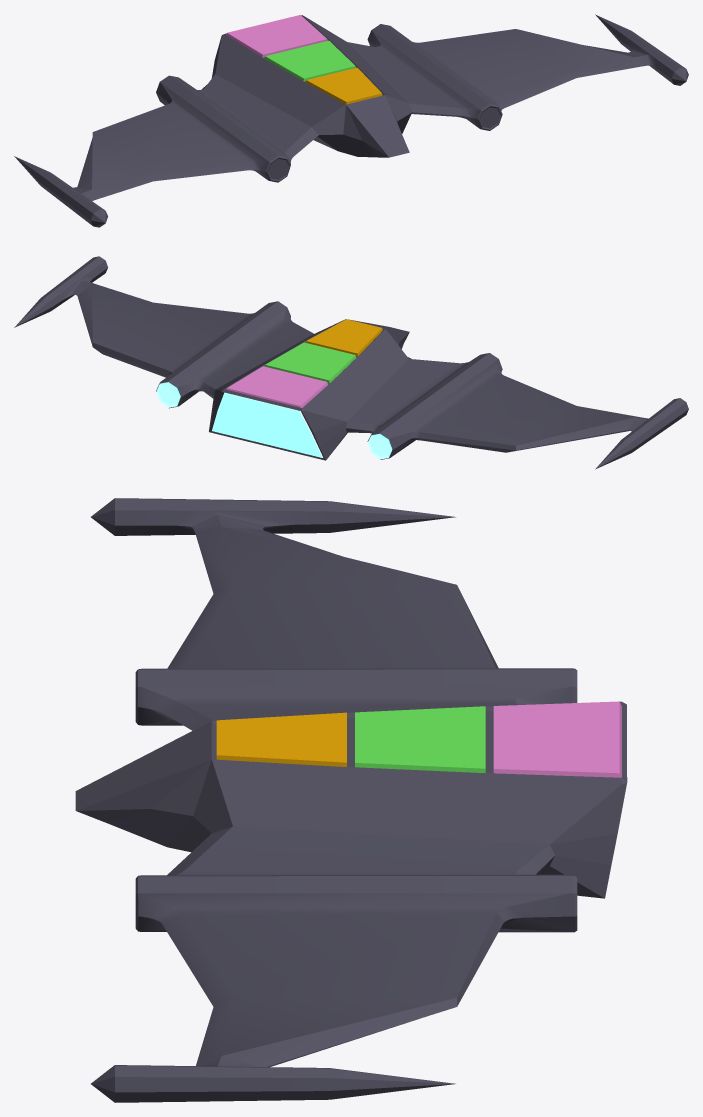
File: spaceship4.fbx
The picture shows the model from 3 angles, top to bottom: view 1: azimuth 30°, elevation 25°; view 2: azimuth 150°, elevation 25°; view 3: azimuth 270°, elevation 25°; orthographic projection. The views are drawn at different scales.
Visible parts, largest first — view 1: ship4; view 2: ship4; view 3: ship4.
Part boxes in pixels (x1,y1,x2,y2): ship4: (14, 14, 688, 227); ship4: (14, 256, 688, 469); ship4: (75, 498, 627, 1102).
Bounding box in the file's own units: 10.94 × 0.9099 × 4.37.
